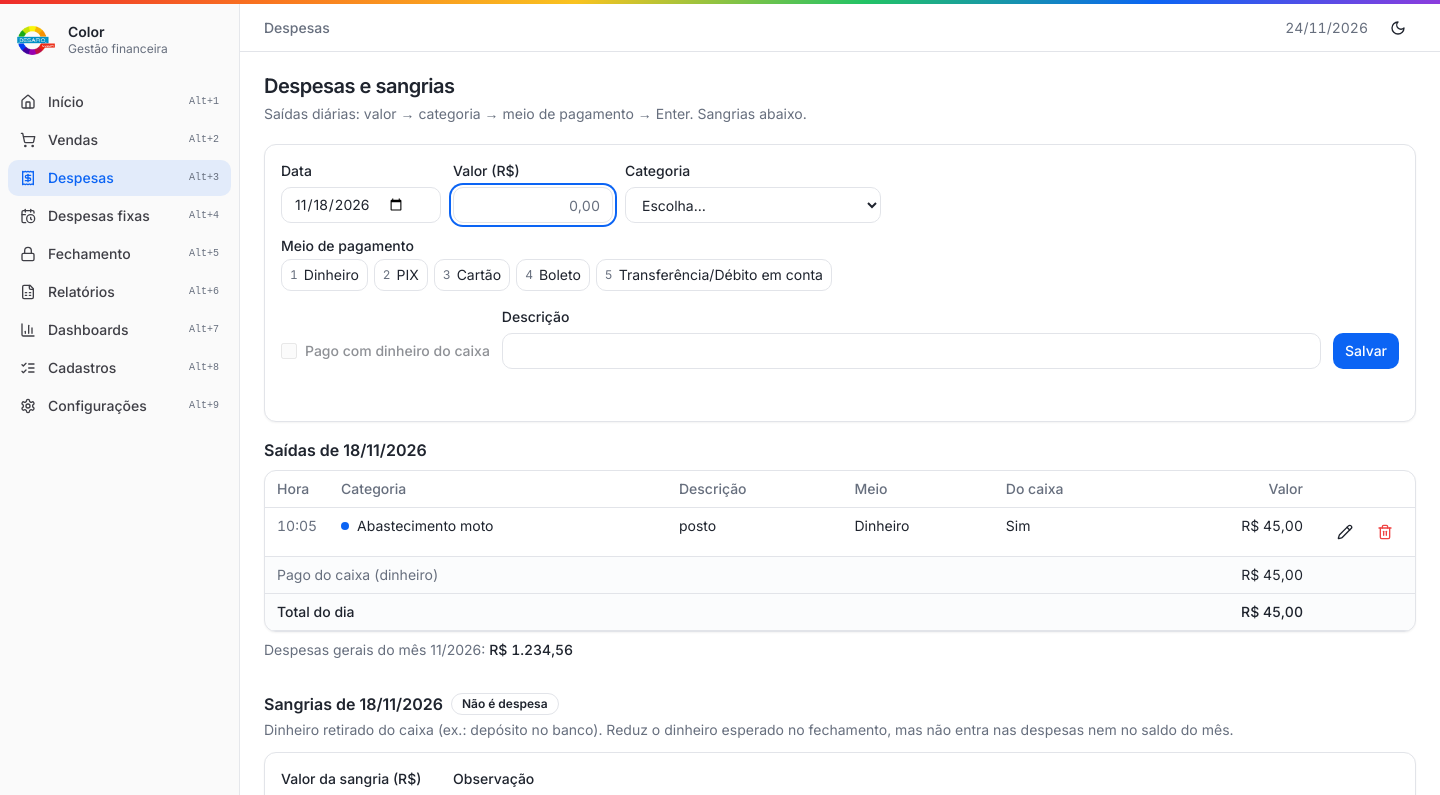
Test case: Despesas (FR-06) › FR-06 (as FR-03): Editar loads the expense into the form and saves the change
Expected: the date field labelled "Data" holds "2026-11-18", top-left (281, 187), bottom-right (441, 223)
Click the button named "Editar despesa": [1345, 532] box top-left (1327, 516), bottom-right (1363, 548)
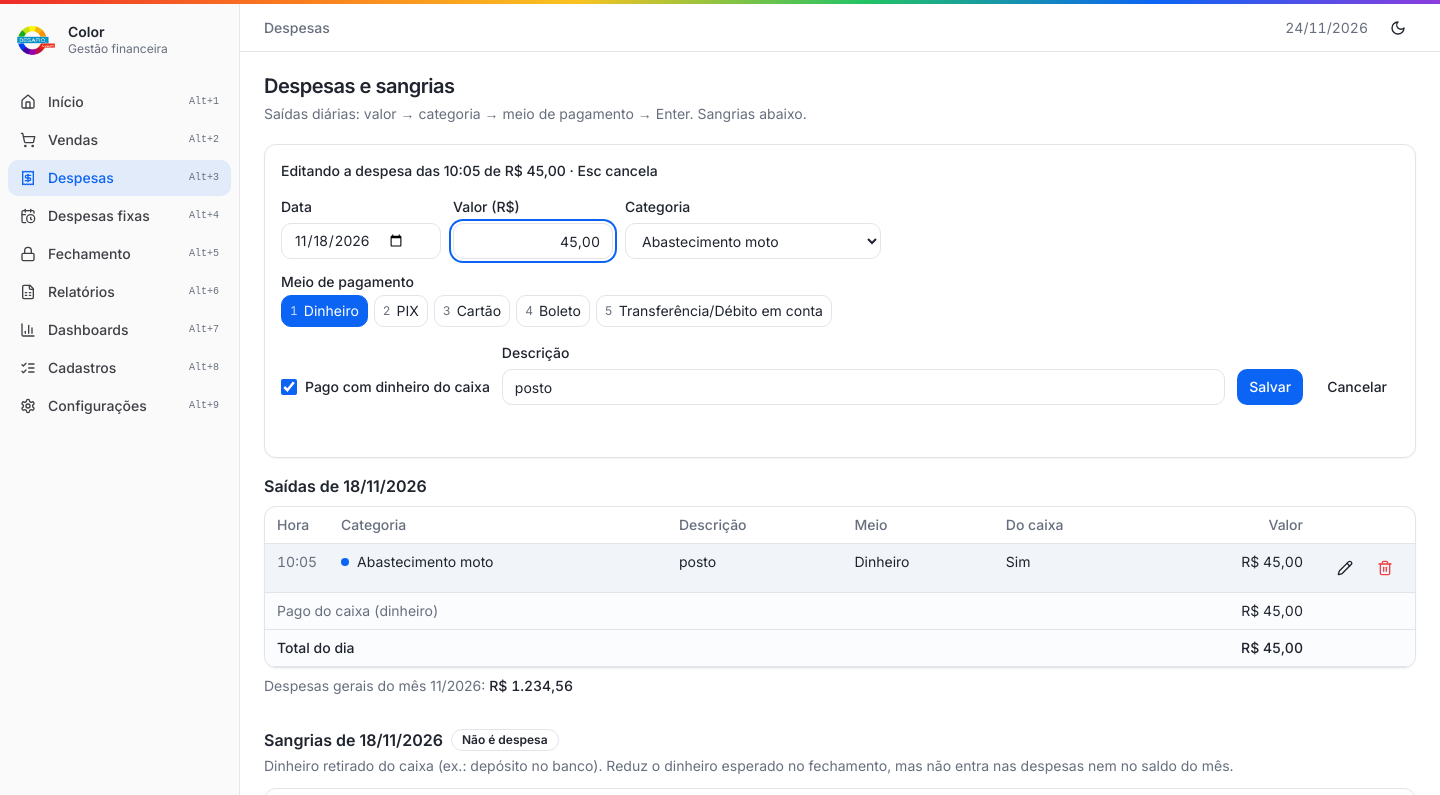
Result: the form named "Editar despesa" is shown at top-left (281, 161), bottom-right (1399, 441)
Result: the field labelled "Valor (R$)" holds "45,00"
Result: the dropdown labelled "Categoria" shows "Abastecimento moto" at top-left (625, 223), bottom-right (881, 259)
Replace the text in the field labelled "Valor (R$)" with "50": [533, 241] box top-left (453, 223), bottom-right (613, 259)
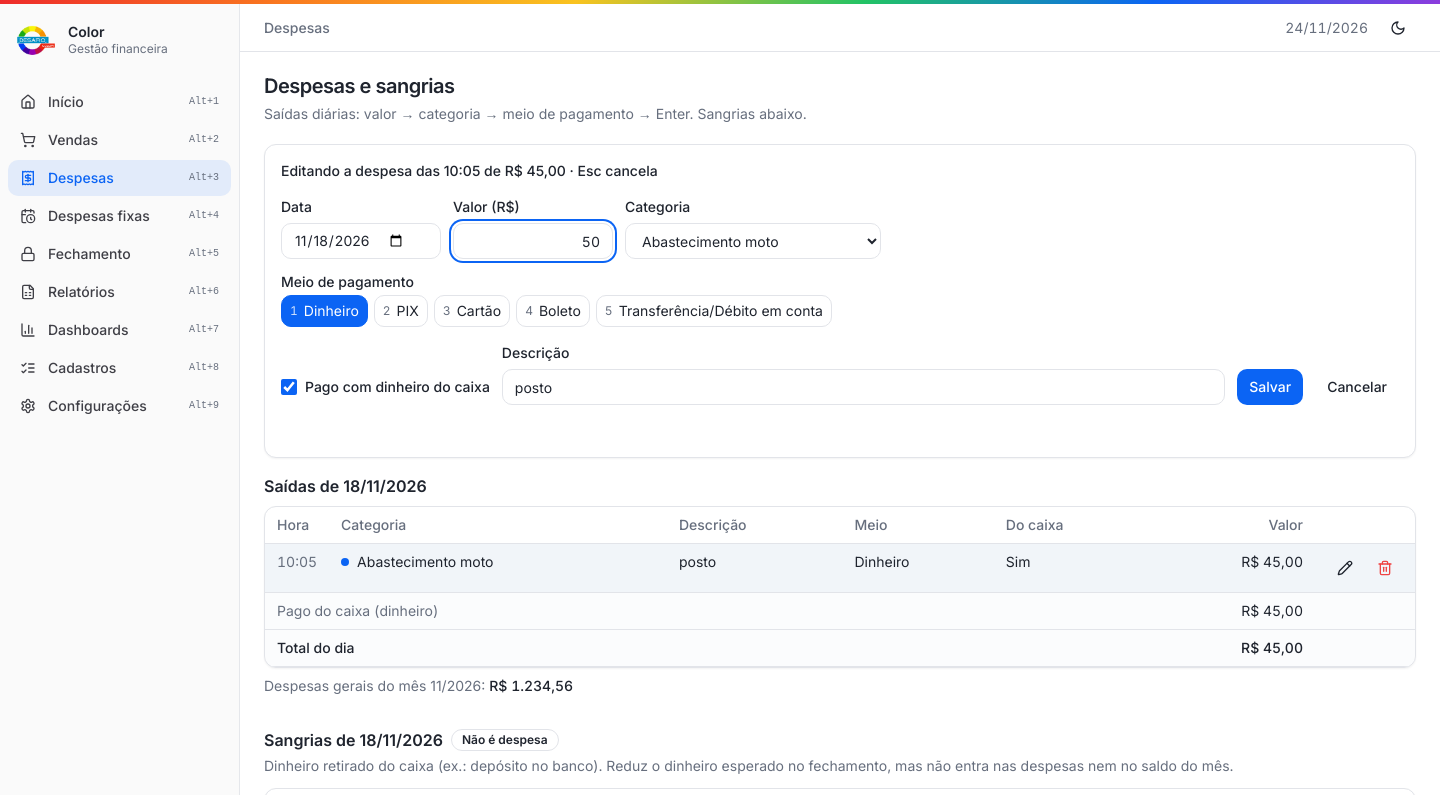
Submit the form named "Editar despesa", box top-left (281, 161), bottom-right (1399, 441)
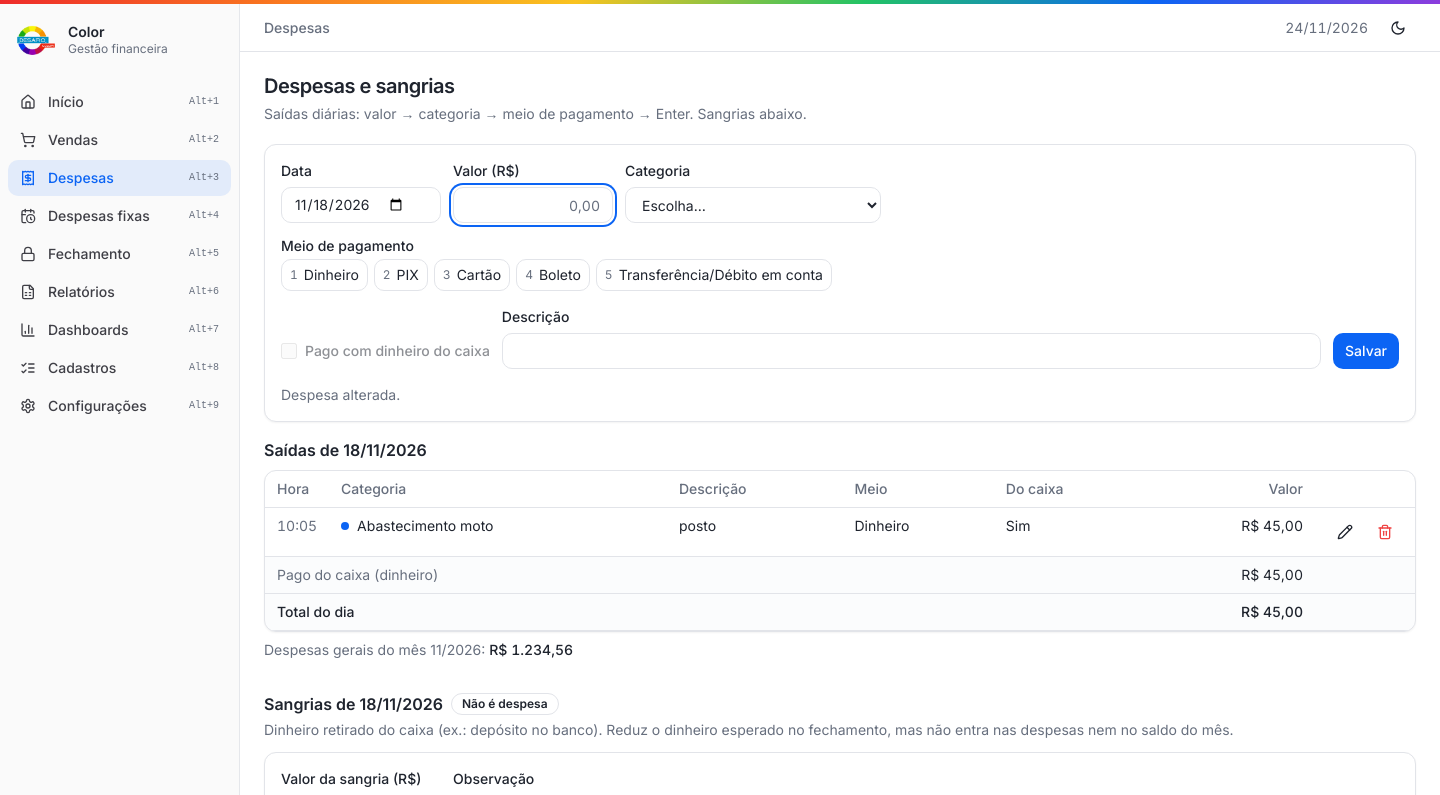
Result: the text "Despesa alterada." is shown at top-left (281, 386), bottom-right (400, 403)
Result: the form named "Nova despesa" is shown at top-left (281, 161), bottom-right (1399, 405)
